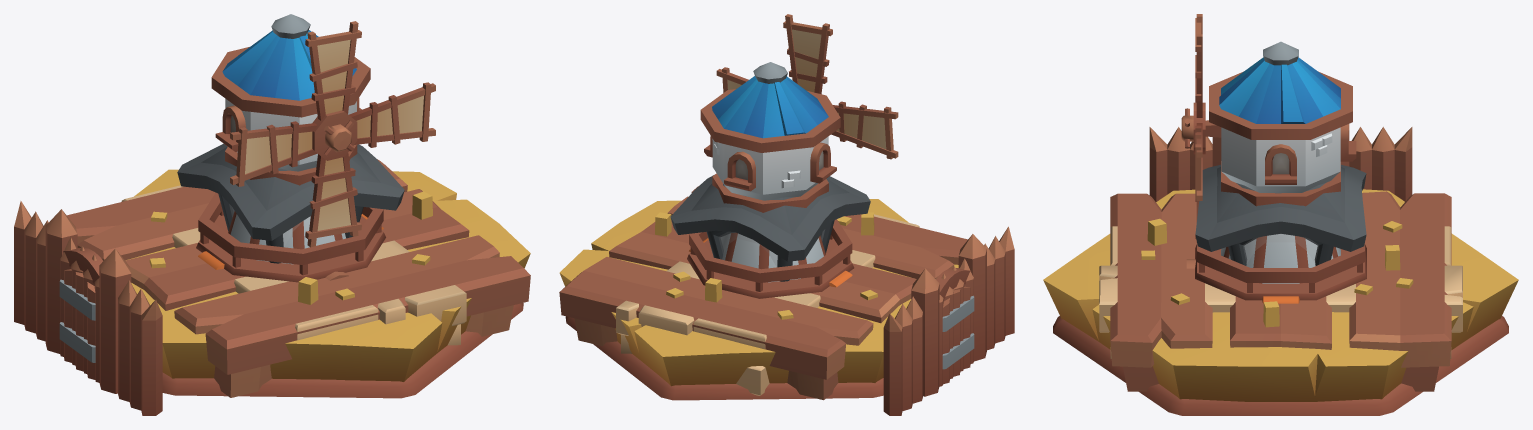
File: holding-windmill.glb
3 views of the same model, side by side, from view 1: azimuth 30°, elevation 25°; view 2: azimuth 150°, elevation 25°; view 3: azimuth 270°, elevation 25° (orthographic). The views are drawn at different scales.
Visible parts, largest first — view 1: Pallet_Wood, building_grain, building_windmill_top_fan_blue, building_windmill_top_blue, fence_wood_straight, fence_wood_straight_gate, lantern, building_windmill_blue, building_dirt, Wood_Planks_Stack_Small, fence_wood_straight_door; view 2: Pallet_Wood, building_windmill_top_blue, building_grain, lantern, fence_wood_straight_gate, fence_wood_straight, building_windmill_blue, building_windmill_top_fan_blue, Wood_Planks_Stack_Small, building_dirt, fence_wood_straight_door; view 3: Pallet_Wood, building_grain, building_windmill_top_blue, lantern, building_windmill_blue, building_dirt, fence_wood_straight, Wood_Planks_Stack_Small, fence_wood_straight_gate, building_windmill_top_fan_blue.
Boxes of the visible parts, box(x1,y1,x2,y2) form: Pallet_Wood: box(67, 159, 530, 397); building_grain: box(126, 169, 530, 381); building_windmill_top_fan_blue: box(230, 21, 435, 247); building_windmill_top_blue: box(211, 14, 370, 185); fence_wood_straight: box(14, 201, 162, 415); fence_wood_straight_gate: box(14, 209, 162, 415); lantern: box(177, 143, 404, 263); building_windmill_blue: box(196, 192, 385, 282); building_dirt: box(162, 303, 523, 398); Wood_Planks_Stack_Small: box(121, 185, 466, 345); fence_wood_straight_door: box(59, 269, 95, 379); Pallet_Wood: box(559, 186, 967, 400); building_windmill_top_blue: box(700, 62, 840, 212); building_grain: box(559, 199, 958, 386); lantern: box(670, 175, 870, 281); fence_wood_straight_gate: box(883, 234, 1014, 415); fence_wood_straight: box(883, 226, 1014, 415); building_windmill_blue: box(687, 219, 854, 298); building_windmill_top_fan_blue: box(716, 14, 898, 159); Wood_Planks_Stack_Small: box(616, 214, 919, 395); building_dirt: box(565, 316, 883, 400); fence_wood_straight_door: box(942, 286, 974, 384); Pallet_Wood: box(1110, 191, 1451, 391); building_grain: box(1043, 189, 1518, 401); building_windmill_top_blue: box(1205, 41, 1356, 206); lantern: box(1195, 164, 1366, 265); building_windmill_blue: box(1186, 234, 1366, 300); building_dirt: box(1053, 316, 1508, 415); fence_wood_straight: box(1149, 127, 1412, 201); Wood_Planks_Stack_Small: box(1099, 226, 1462, 358); fence_wood_straight_gate: box(1149, 124, 1412, 201); building_windmill_top_fan_blue: box(1181, 14, 1205, 242).
Bounding box in the file's own units: 2.01 × 1.66 × 2.09.
4 materials, 3 textured.
